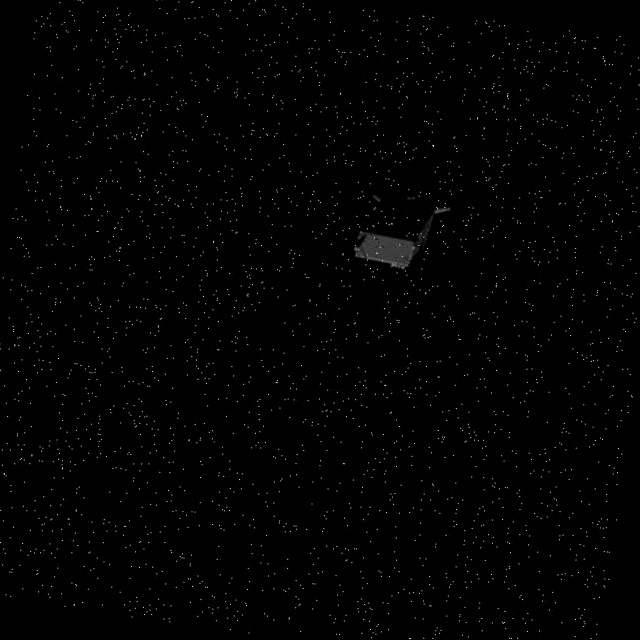satellite: (341, 169, 453, 279)
